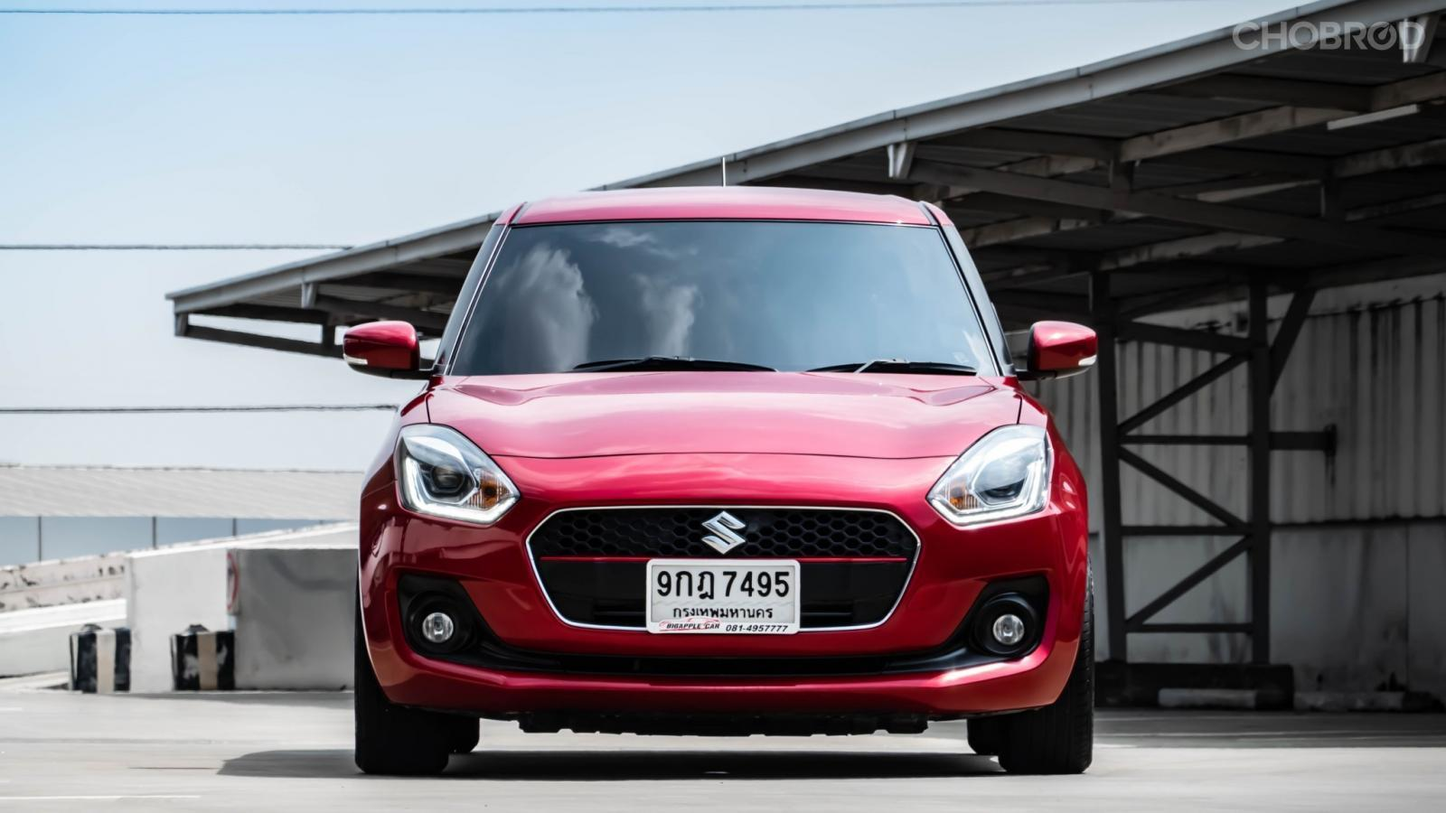license-plate: (646, 555, 800, 637)
